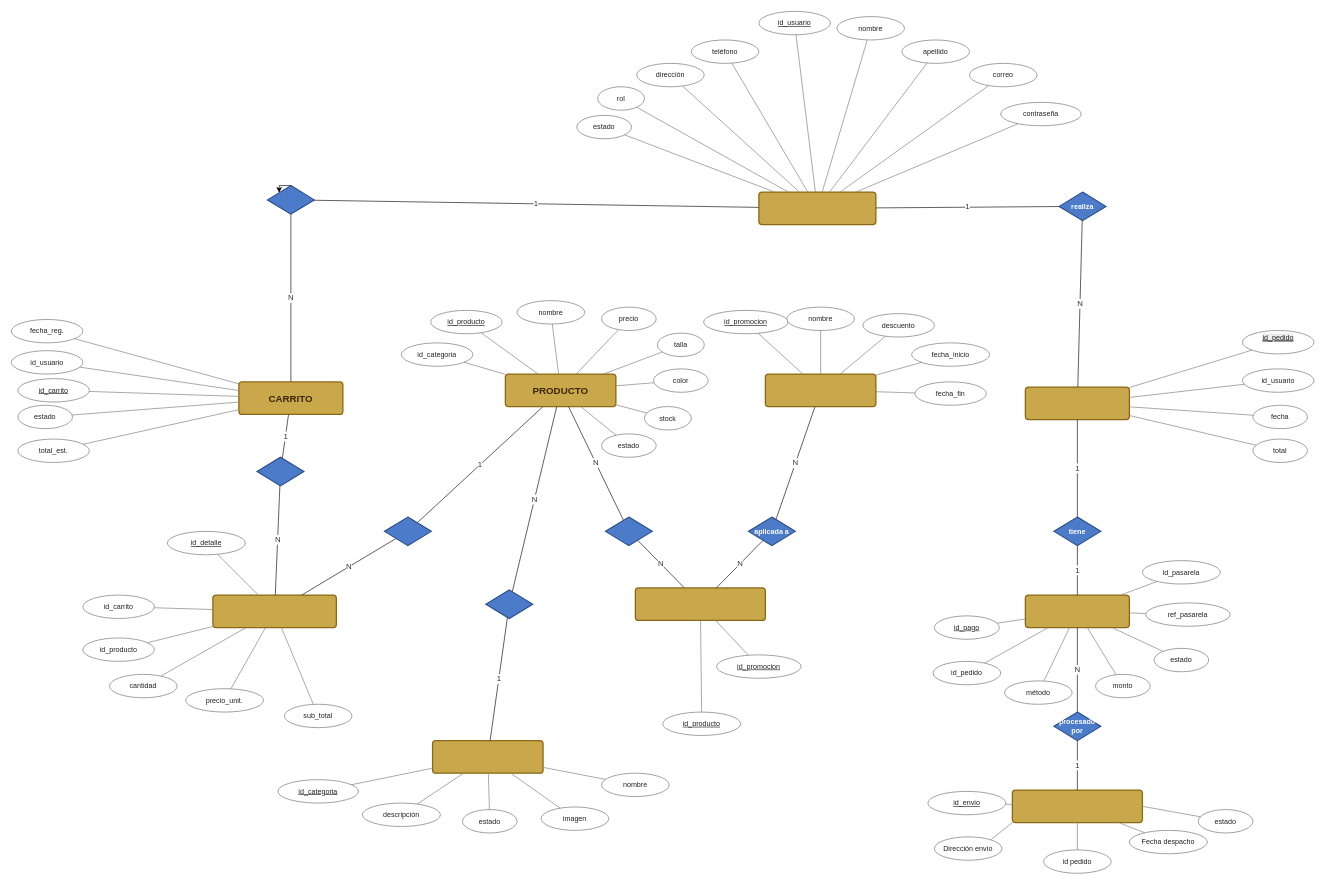
The diagram is 1326 pixels wide and 885 high, and some of its shapes have lost their labels. The box of each missing label's shape, as (x1, y1, x2, y2) in pixels:
CATEGORÍA: (432, 740, 543, 774)
contiene: (256, 456, 304, 486)
DETALLE CARRITO: (212, 594, 337, 628)
Envio: (1011, 789, 1143, 823)
PAGO: (1024, 594, 1130, 628)
participa: (605, 516, 653, 546)
Pedido: (1024, 386, 1130, 420)
pertenece: (485, 589, 533, 619)
PRODUCTO PROMOCIÓN: (634, 587, 766, 621)
PROMOCIÓN: (764, 373, 876, 407)
registra: (267, 185, 315, 214)
se agrega: (384, 516, 432, 546)
USUARIO: (758, 191, 876, 225)
